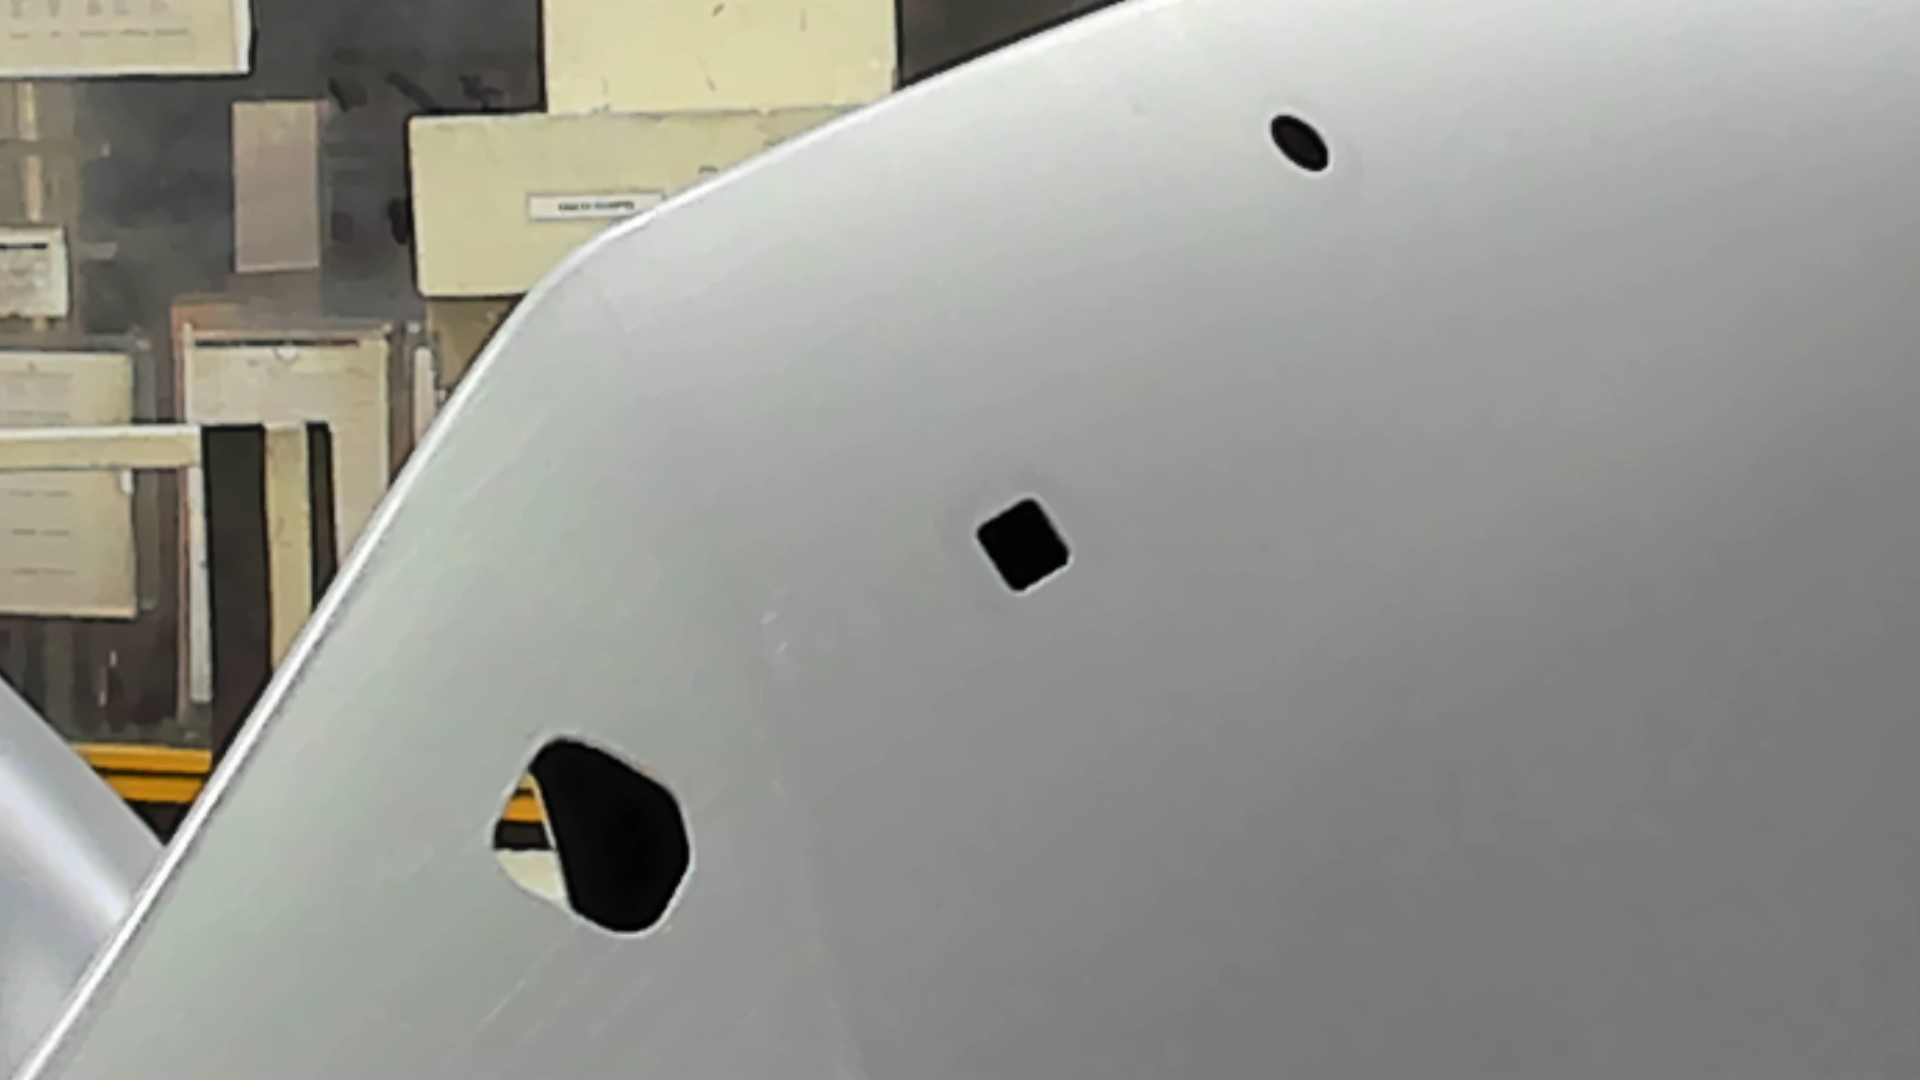chico: (1266, 105, 1336, 181)
grande: (483, 725, 700, 945)
mediano: (968, 489, 1080, 605)
